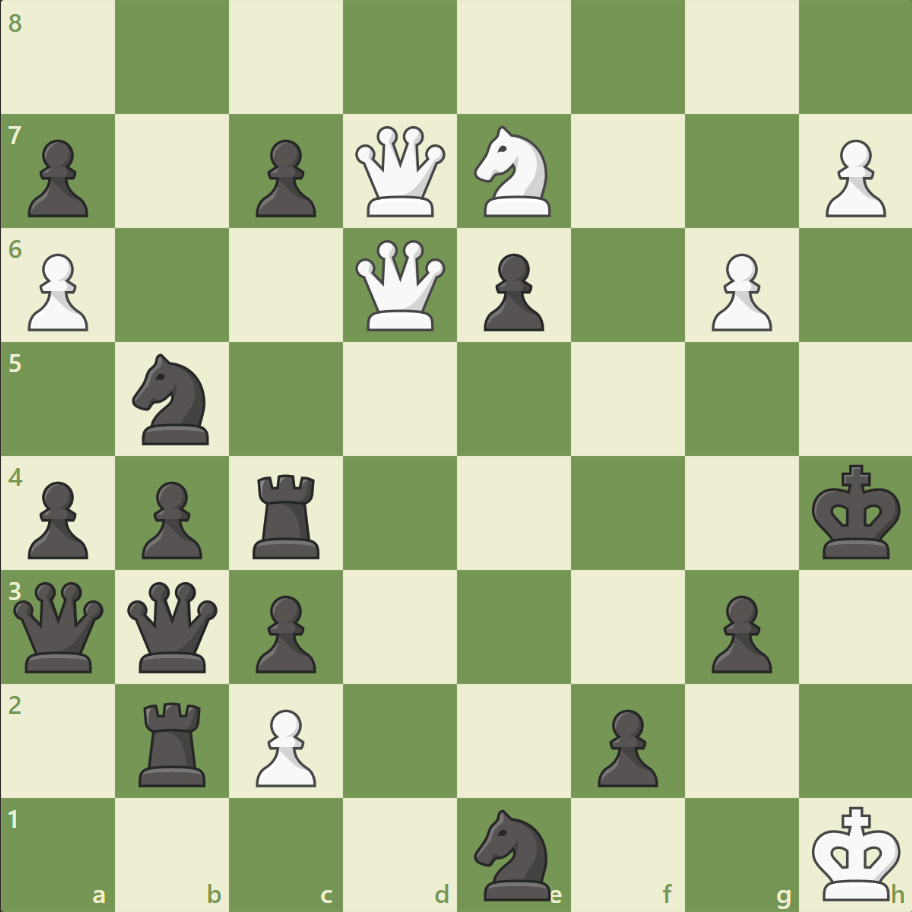K: (806, 798, 906, 906)
N: (465, 121, 562, 223)
P: (20, 246, 95, 337), (701, 246, 776, 337), (247, 700, 322, 791), (815, 132, 889, 223)
Q: (351, 122, 450, 222), (351, 236, 450, 335)
k: (806, 458, 906, 566)
n: (124, 348, 222, 450), (465, 802, 562, 904)
p: (20, 132, 95, 223), (247, 132, 322, 223), (474, 246, 549, 337), (20, 473, 95, 564), (133, 473, 208, 564), (247, 586, 322, 677), (701, 586, 776, 677), (588, 700, 662, 791)
q: (10, 576, 109, 676), (124, 576, 223, 676)
r: (246, 466, 329, 563), (133, 693, 215, 790)
